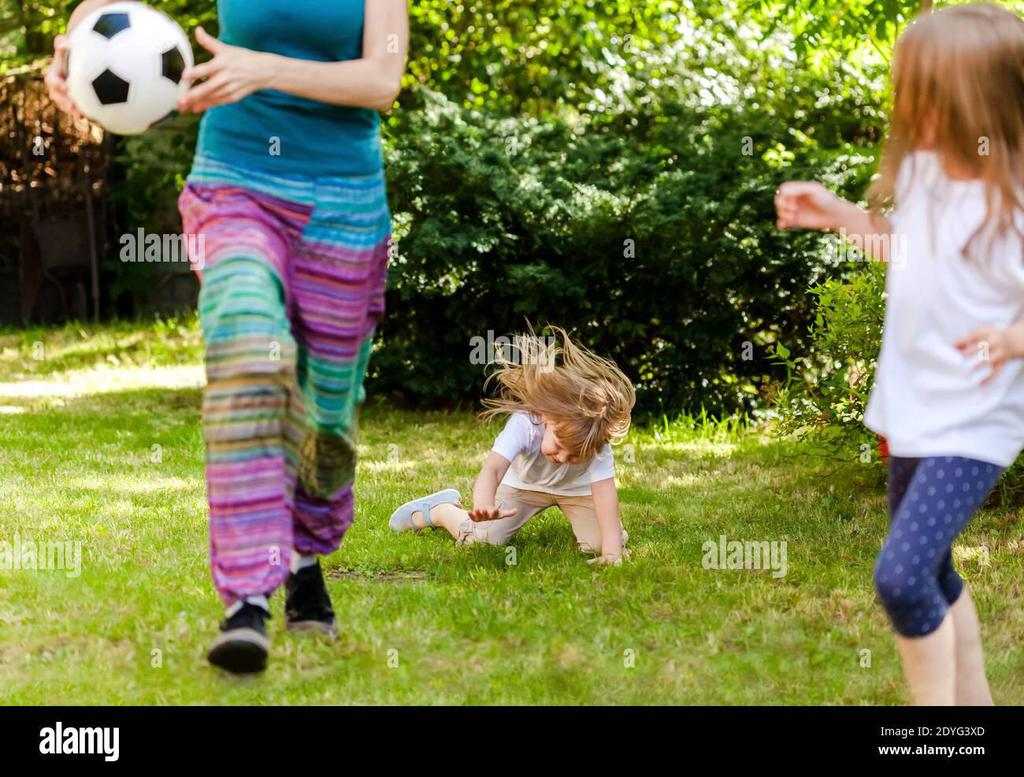child: (387, 337, 657, 578)
